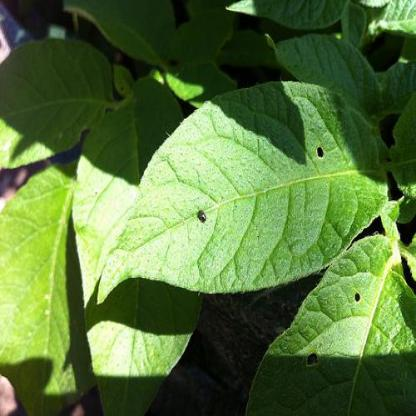beetle: (196, 207, 210, 224)
